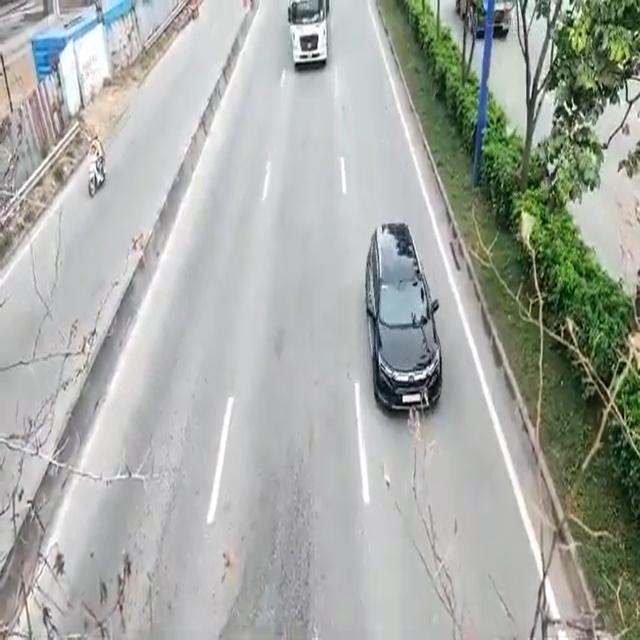car: (362, 222, 446, 420)
motor: (85, 157, 110, 203)
truck: (287, 3, 331, 70)
